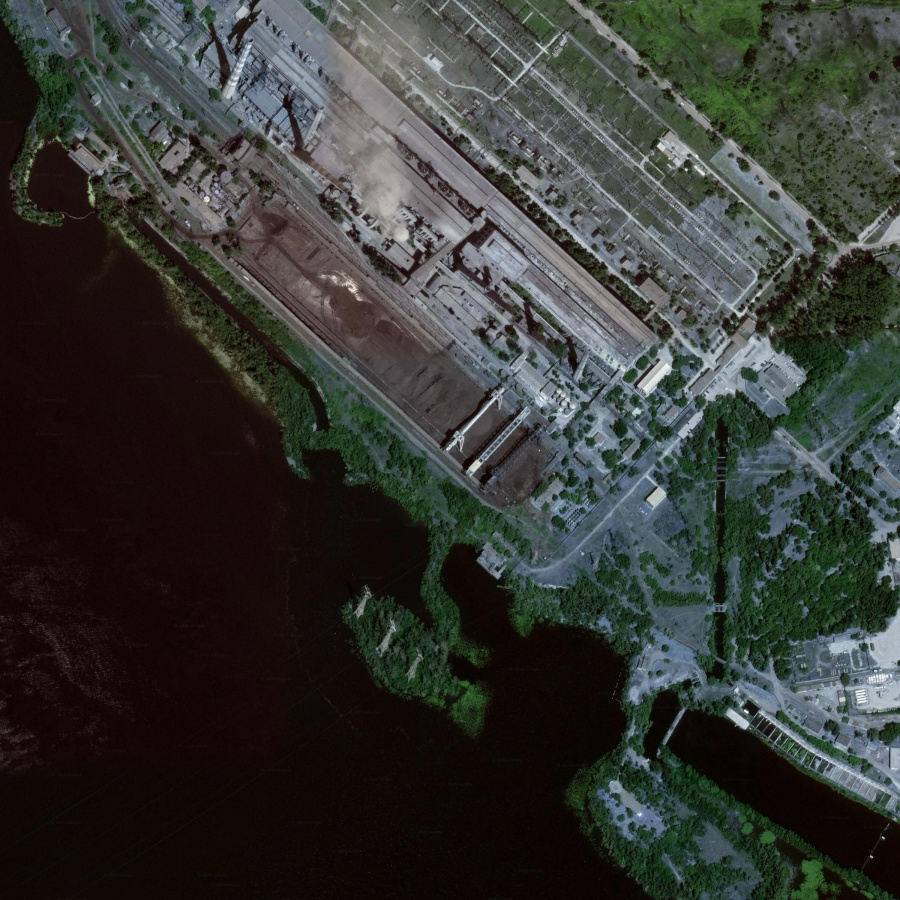PowerPlant: (178, 8, 611, 507)
